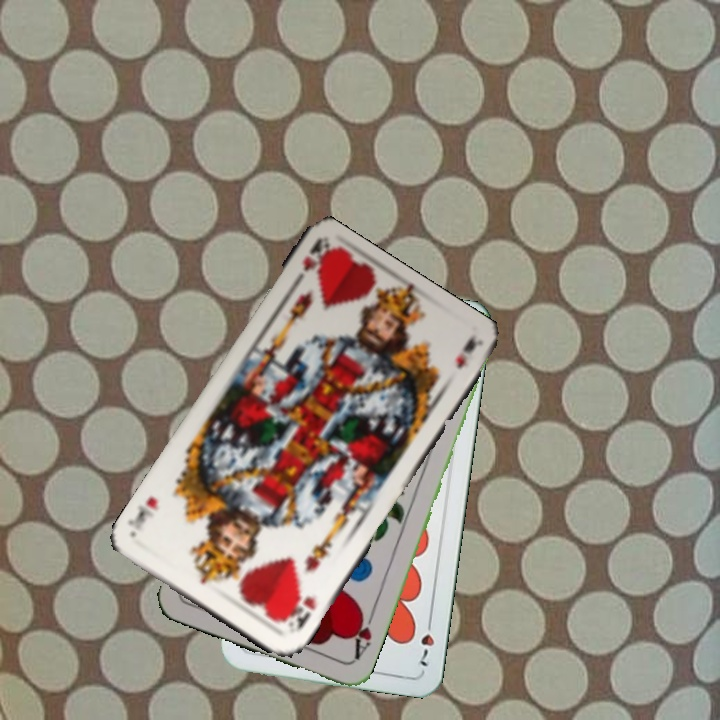H7: (413, 613, 437, 669)
HA: (347, 606, 378, 663)
HK: (286, 237, 330, 293), (280, 592, 319, 636)
